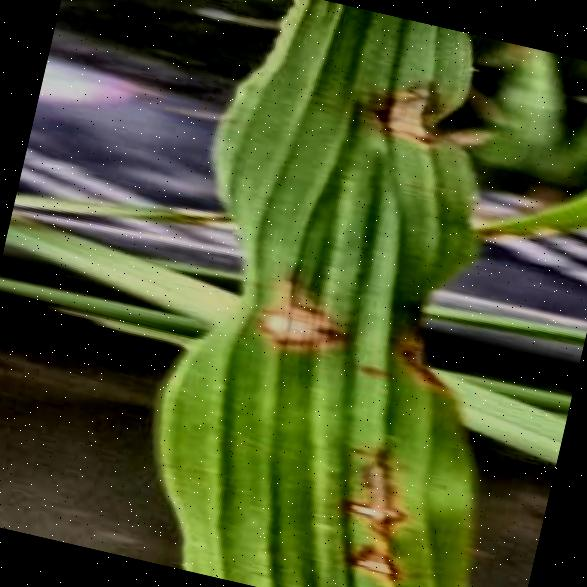Leaf_smut: (194, 252, 495, 587), (340, 54, 466, 164)
